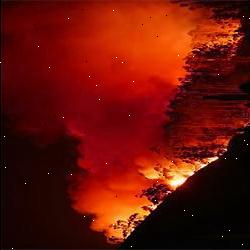fire: (74, 0, 140, 245), (146, 0, 203, 206)
